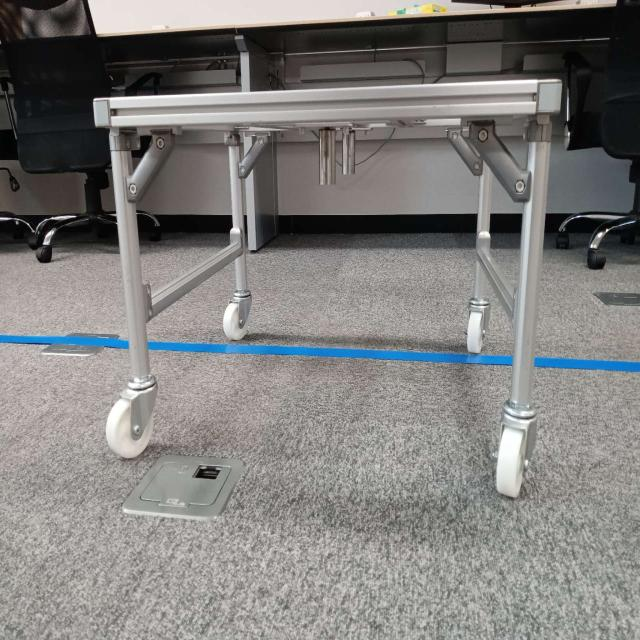door: (95, 83, 556, 211)
